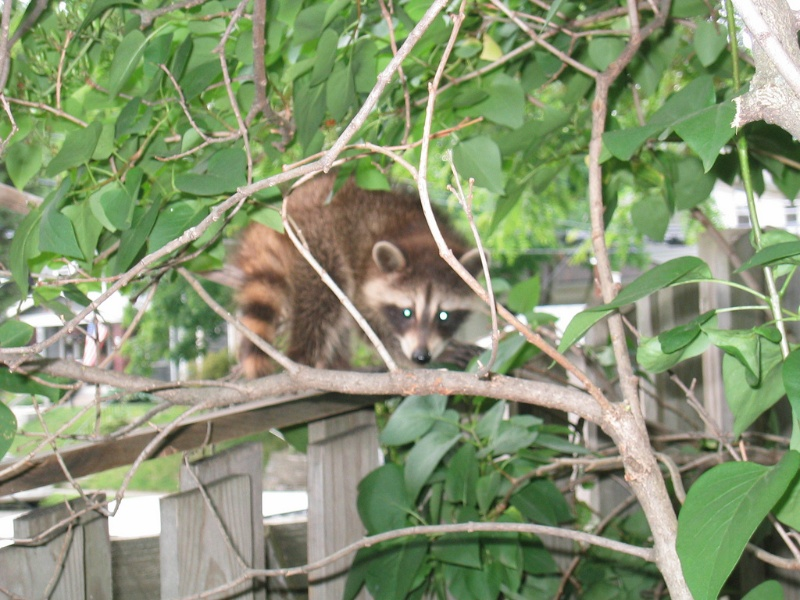raccoon: (229, 170, 502, 392)
